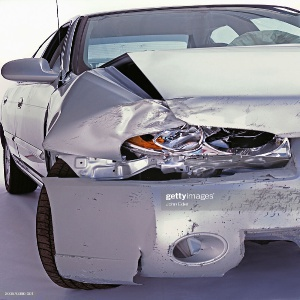bonnet: (123, 48, 290, 107)
bumper: (47, 182, 291, 278)
head_lights: (122, 124, 292, 171)
